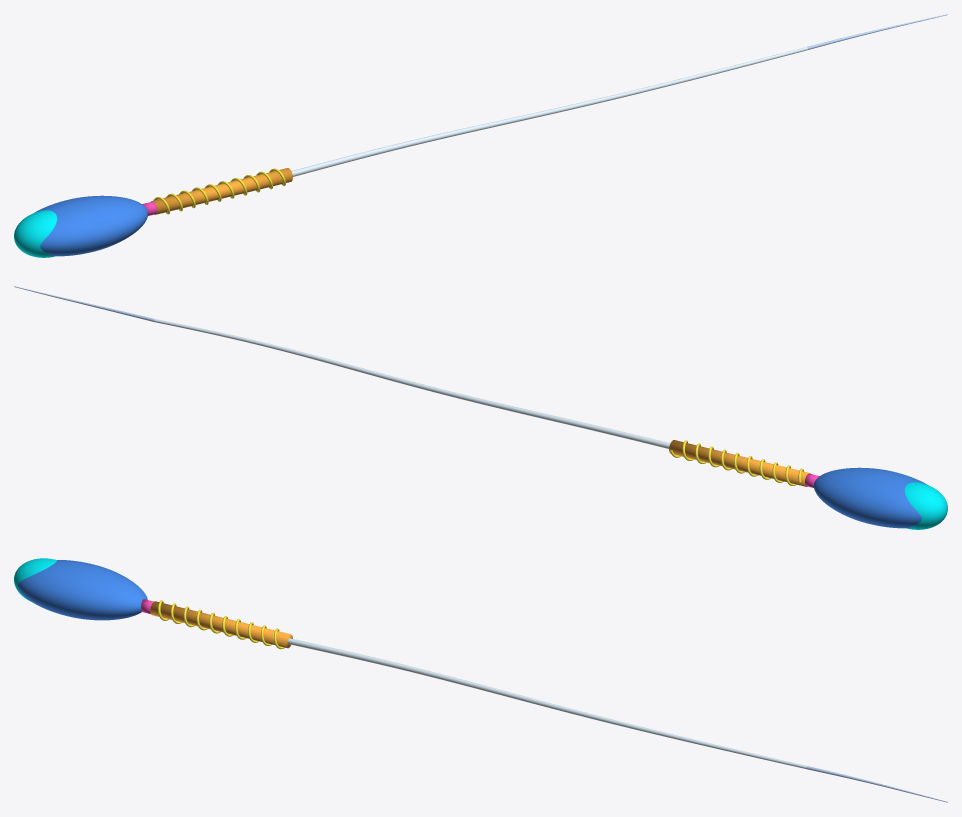
The model's file is 10_Acrosoma_pequeno.glb.
3 views of the same model, one above another, from view 1: azimuth 30°, elevation 25°; view 2: azimuth 150°, elevation 25°; view 3: azimuth 330°, elevation 25° (orthographic).
Visible parts, largest first — view 1: Cabeza_nucleo.001, Cola_pieza_principal.001, Pieza_intermedia.001, Cubierta_acrosomal_pequena, Helice_mitocondrial_didactica.001; view 2: Cabeza_nucleo.001, Cola_pieza_principal.001, Pieza_intermedia.001, Cubierta_acrosomal_pequena, Helice_mitocondrial_didactica.001; view 3: Cabeza_nucleo.001, Cola_pieza_principal.001, Pieza_intermedia.001, Helice_mitocondrial_didactica.001, Cubierta_acrosomal_pequena.
Part boxes in pixels (<box>): Cabeza_nucleo.001: <box>33,195,147,256</box>; Cola_pieza_principal.001: <box>291,47,807,176</box>; Pieza_intermedia.001: <box>151,168,292,214</box>; Cubierta_acrosomal_pequena: <box>14,210,57,257</box>; Helice_mitocondrial_didactica.001: <box>153,168,285,214</box>; Cabeza_nucleo.001: <box>814,467,928,528</box>; Cola_pieza_principal.001: <box>154,319,670,448</box>; Pieza_intermedia.001: <box>669,440,810,486</box>; Cubierta_acrosomal_pequena: <box>904,482,947,529</box>; Helice_mitocondrial_didactica.001: <box>670,440,803,485</box>; Cabeza_nucleo.001: <box>18,560,147,620</box>; Cola_pieza_principal.001: <box>287,638,806,768</box>; Pieza_intermedia.001: <box>150,601,292,648</box>; Helice_mitocondrial_didactica.001: <box>158,600,284,649</box>; Cubierta_acrosomal_pequena: <box>14,558,56,601</box>.
Bounding box in the file's own units: 62.9 × 2.84 × 4.56.
